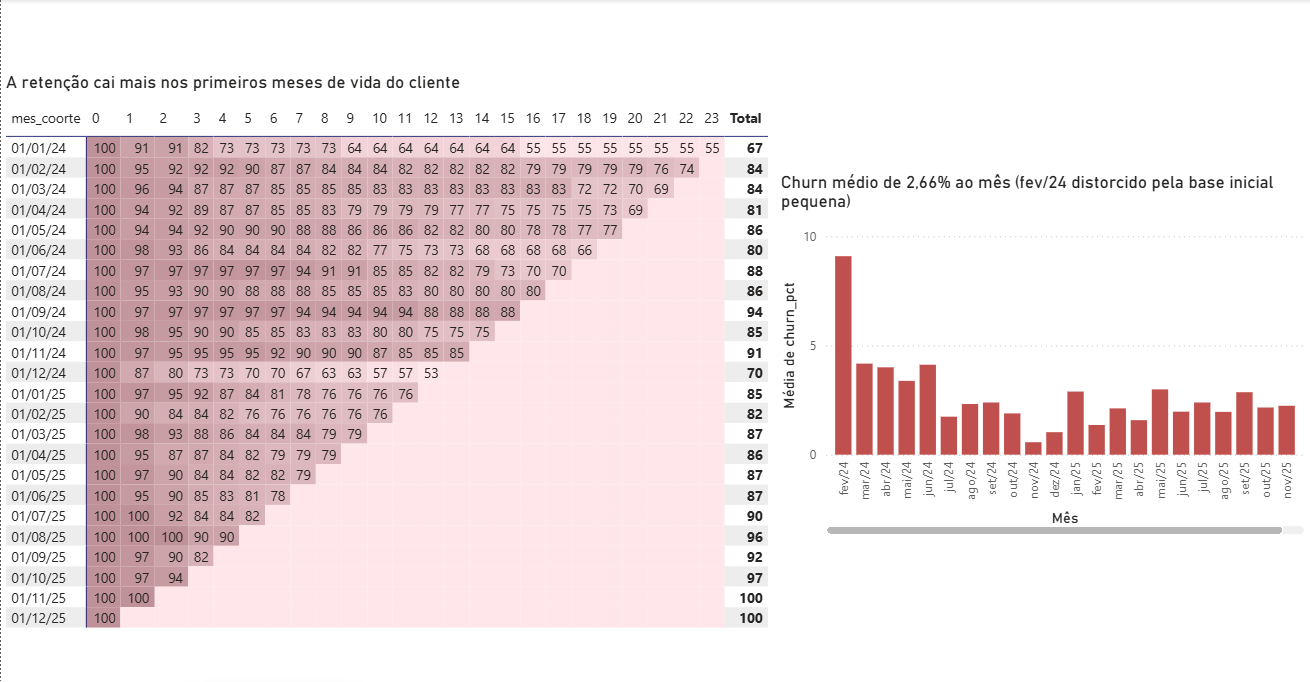

This screenshot's page, from the dashboard's own definition file:
{"tool":"powerbi","page":{"name":"3. Retenção por coorte","canvas":[1280,720],"ordinal":2},"visuals":[{"type":"pivotTable","title":"A retenção cai mais nos primeiros meses de vida do cliente","fields":{"Columns":["Coorte.meses_desde_entrada"],"Values":["Avg(Coorte.retencao_pct)"],"Rows":["Coorte.mes_coorte"]},"box":[0,71.4,758.7,553.9],"z":0},{"type":"columnChart","title":"Churn médio de 2,66% ao mês (fev/24 distorcido pela base inicial pequena)","fields":{"Category":["Calendario.Mês"],"Y":["Avg(MRR.churn_pct)"]},"box":[758.7,168.5,521.5,359.8],"z":1000}]}

Visuals, with their boxes on the page's 1280x720 design canvas (x1, y1, x2, y2). These are canvas units, not pixel positions in the 1310x682 screenshot, which may show the page scaled, cropped or inside an application window:
"A retenção cai mais nos primeiros meses de vida do cliente" pivotTable: select_region(0, 71, 759, 625)
"Churn médio de 2,66% ao mês (fev/24 distorcido pela base inicial pequena)" columnChart: select_region(759, 168, 1280, 528)
